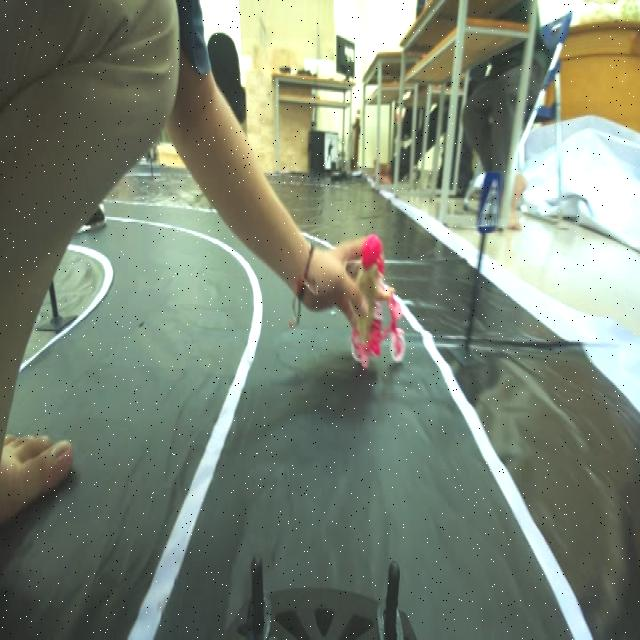crosswalk: (478, 168, 507, 245)
pedestrian: (346, 235, 415, 368)
